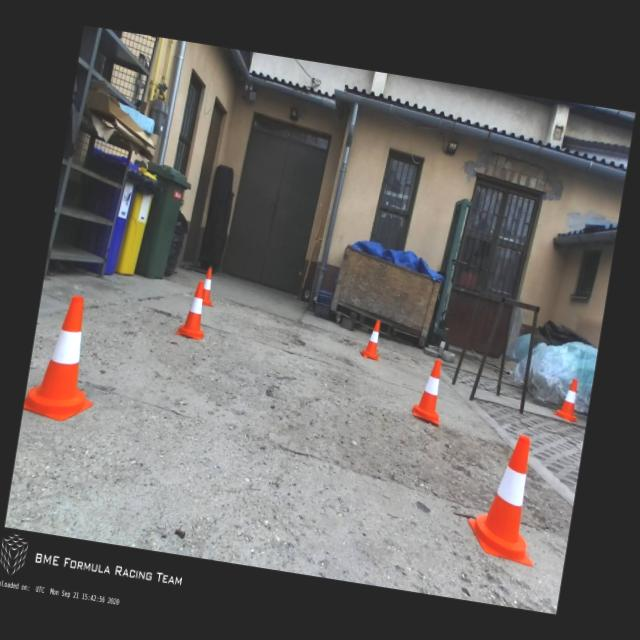orange_cone: (462, 428, 554, 568), (22, 290, 110, 426), (410, 356, 450, 426), (175, 278, 212, 341), (552, 377, 584, 422), (360, 318, 385, 362), (201, 267, 220, 307)
